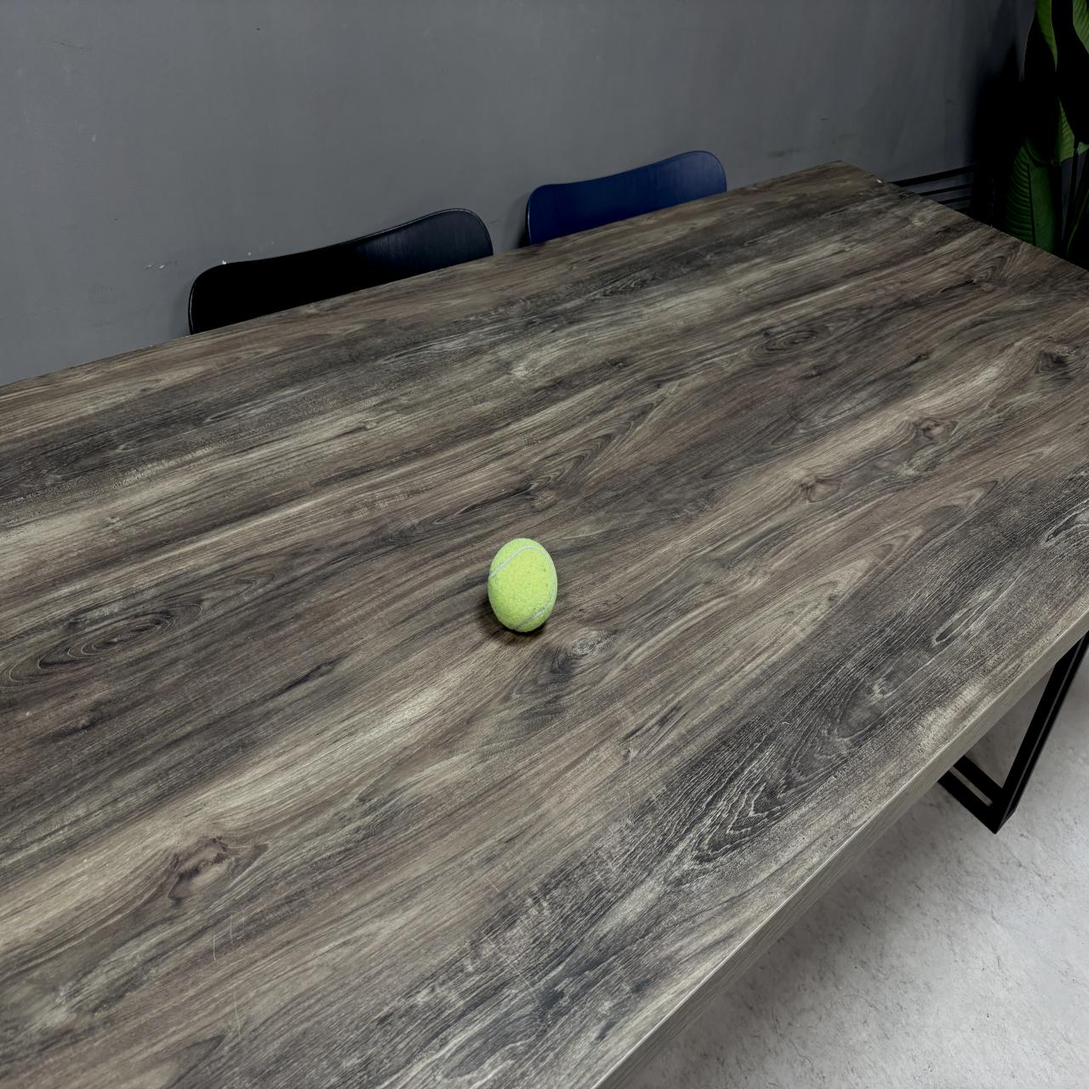tennisball: (488, 539, 557, 632)
